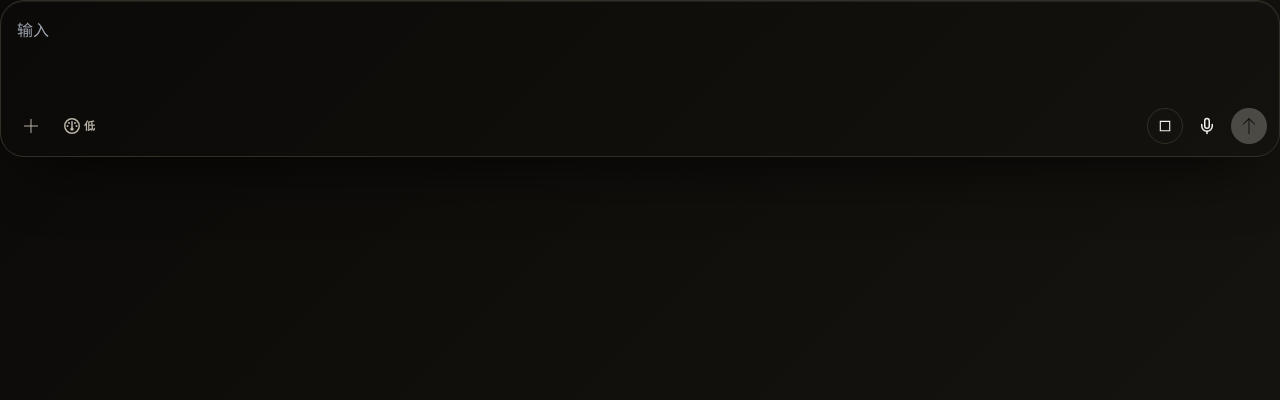
Test: AgentComposer thinking-depth picker › stays usable while a task is running — switching only affects the next run
Click the button named "思考深度: 低": point(80, 126) [53, 108, 106, 144]
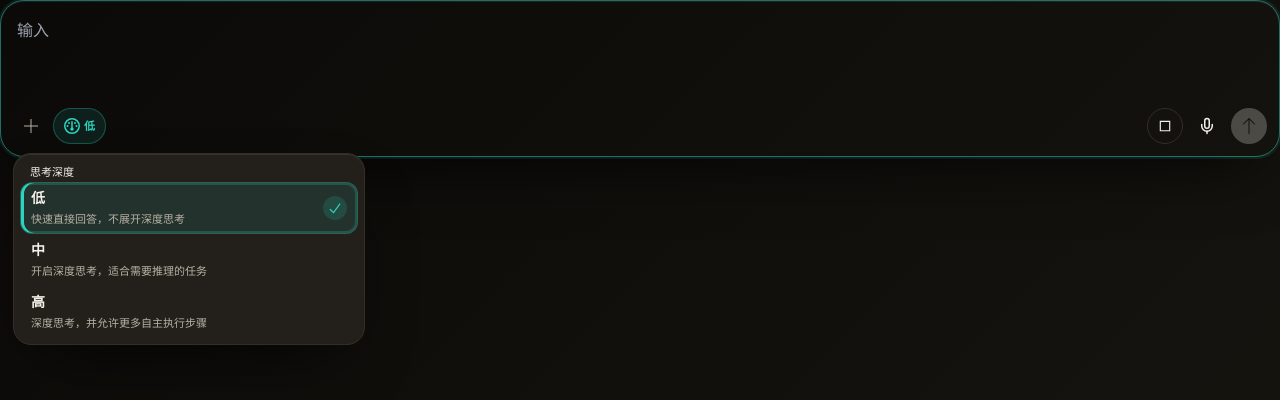
Result: the menu "思考深度" is shown at [13, 153, 365, 345]
